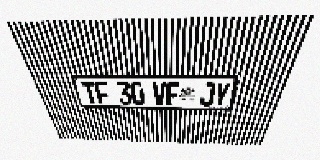0: (130, 82, 145, 105)
3: (116, 82, 132, 105)
F: (93, 81, 111, 104), (166, 82, 180, 105)
J: (199, 82, 216, 106)
T: (81, 81, 99, 104)
V: (152, 82, 166, 105)
Y: (213, 82, 231, 106)
